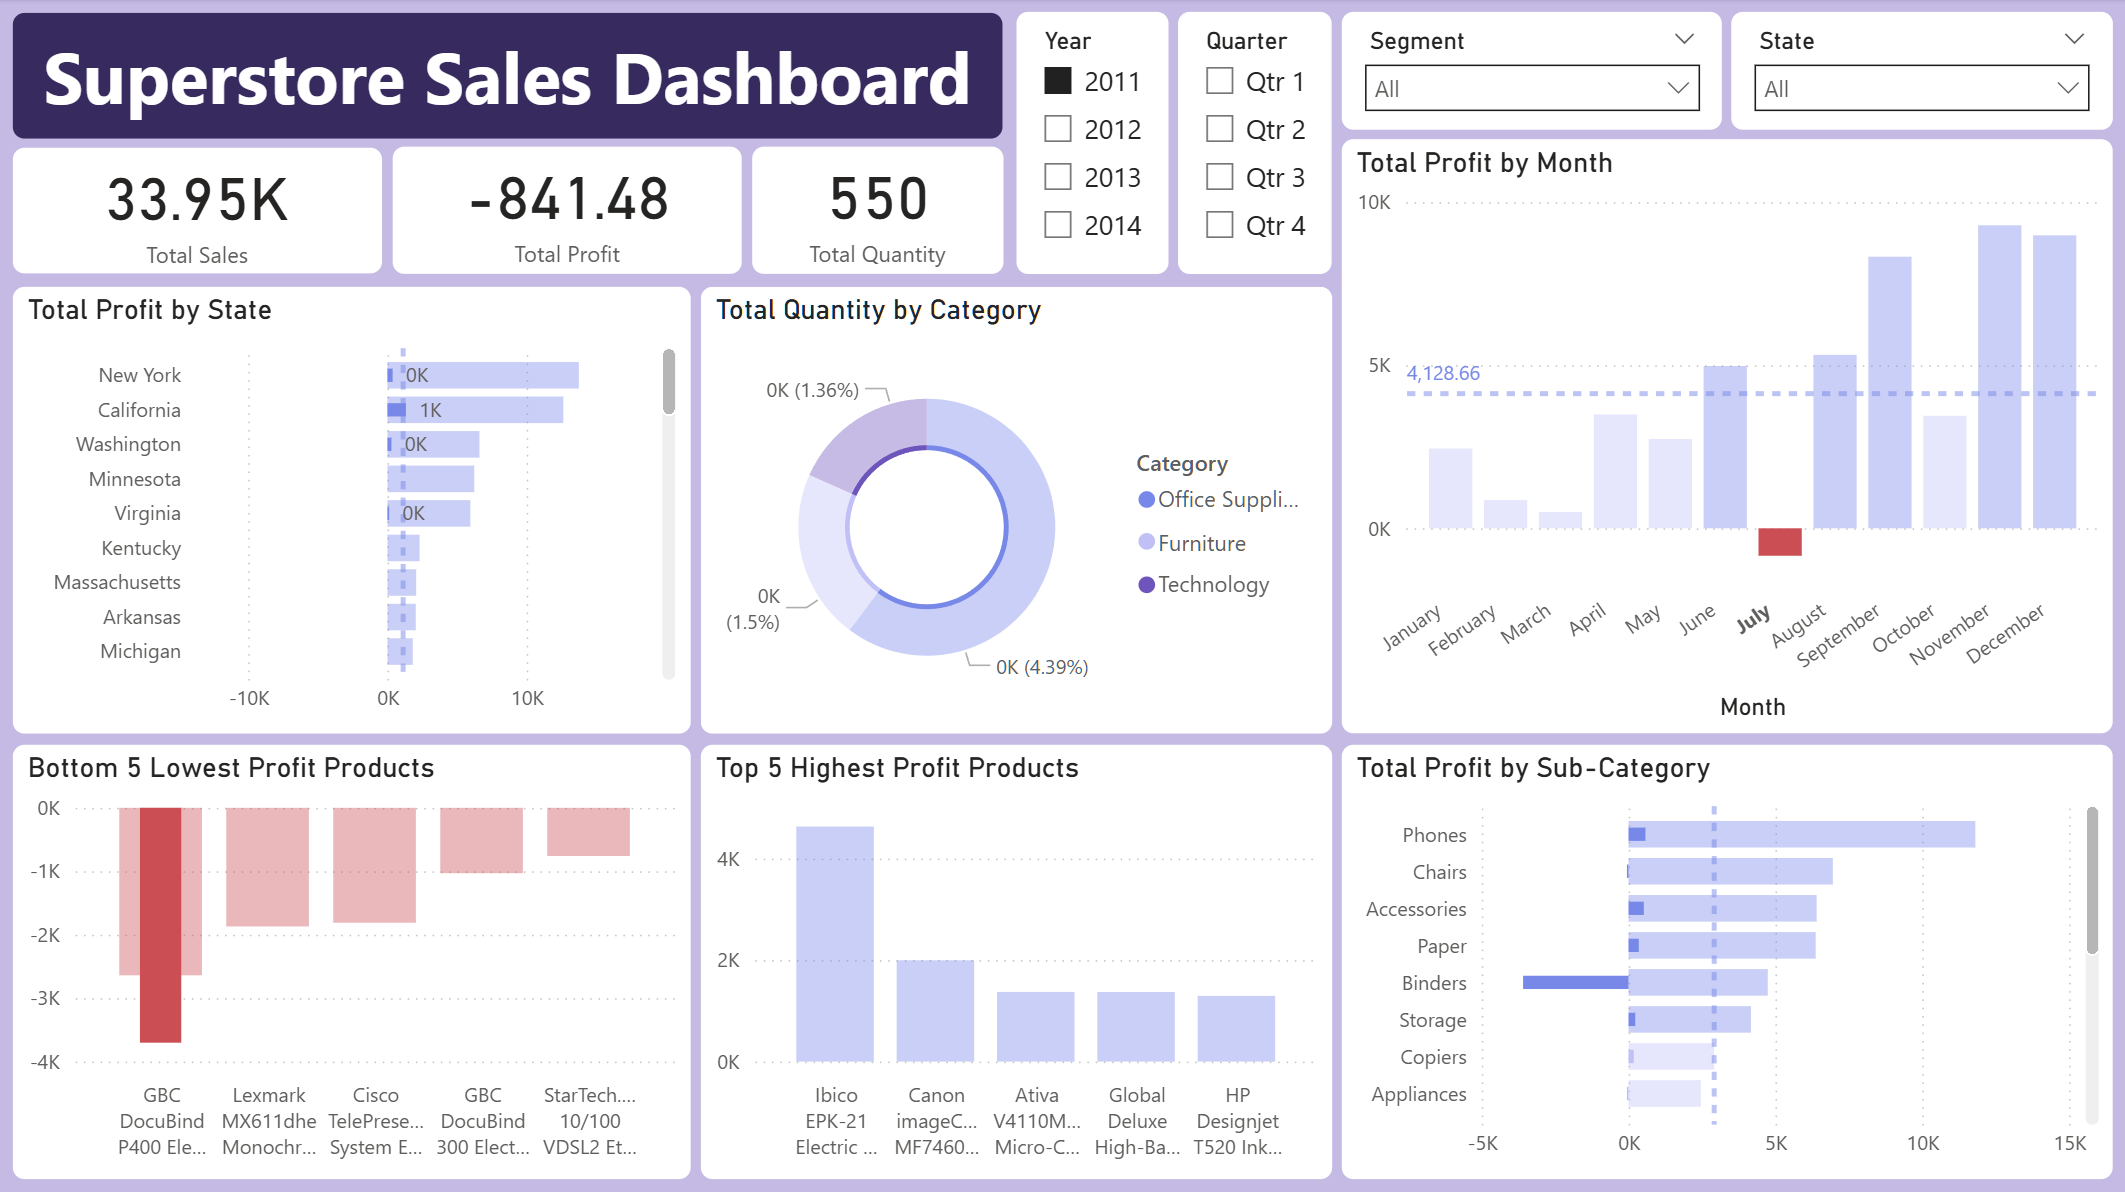

What the dashboard file says about the page in this screenshot:
{"tool":"powerbi","page":{"name":"Superstore Sales Dashboard","canvas":[1280,720],"ordinal":0},"visuals":[{"type":"card","fields":{"Values":["Sum(FactSales.Sales)"]},"box":[7.8,89.6,222.3,75.8],"z":0},{"type":"card","fields":{"Values":["Sum(FactSales.Profit)"]},"box":[236.7,88.9,210.5,76.5],"z":1000},{"type":"card","fields":{"Values":["Sum(FactSales.Quantity)"]},"box":[453.1,88.9,151,76.5],"z":2000},{"type":"slicer","fields":{"Values":["FactSales.Order Date.Variation.Date Hierarchy.Year"]},"box":[612.6,7.8,91.5,157.6],"z":3000},{"type":"slicer","fields":{"Values":["FactSales.Order Date.Variation.Date Hierarchy.Quarter"]},"box":[710,7.8,92.8,157.6],"z":4000},{"type":"clusteredBarChart","title":"Total Profit by State","fields":{"Y":["Sum(FactSales.Profit)"],"Category":["DimLocation.State"]},"box":[7.8,173.3,408,269.4],"z":5000},{"type":"donutChart","title":"Total Quantity by Category","fields":{"Y":["Sum(FactSales.Quantity)"],"Category":["DimProduct.Category"]},"box":[422.4,173.3,380.5,269.4],"z":6000},{"type":"clusteredColumnChart","title":"Total Profit by Month","fields":{"Category":["FactSales.Order Date.Variation.Date Hierarchy.Month"],"Y":["Sum(FactSales.Profit)"]},"box":[808.1,84.3,464.9,358.3],"z":7000},{"type":"slicer","fields":{"Values":["FactSales.Segment"]},"box":[808.1,7.8,229.4,70.6],"z":8000},{"type":"textbox","box":[7.8,8.5,596.3,75.8],"z":9000},{"type":"clusteredBarChart","title":"Total Profit by Sub-Category","fields":{"Y":["Sum(FactSales.Profit)"],"Category":["DimProduct.Sub-Category"]},"box":[808.1,449.2,464.9,261.5],"z":10000},{"type":"slicer","fields":{"Values":["DimLocation.State"]},"box":[1043.3,7.8,229.7,70.6],"z":11000},{"type":"clusteredColumnChart","title":"Top 5 Highest Profit Products","fields":{"Y":["Sum(FactSales.Profit)"],"Category":["DimProduct.Product Name"]},"box":[422.4,449.2,380.5,261.5],"z":12000},{"type":"clusteredColumnChart","title":"Bottom 5 Lowest Profit Products","fields":{"Y":["Sum(FactSales.Profit)"],"Category":["DimProduct.Product Name"]},"box":[7.8,449.2,408,261.5],"z":13000}]}

Visuals, with their boxes in screenshot pixels (x1, y1, x2, y2), scaled from the page's 1280x720 canvas onto the 2125x1192 screenshot:
card - Sum(FactSales.Sales): [x1=13, y1=148, x2=382, y2=274]
card - Sum(FactSales.Profit): [x1=393, y1=147, x2=742, y2=274]
card - Sum(FactSales.Quantity): [x1=752, y1=147, x2=1003, y2=274]
slicer - FactSales.Order Date.Variation.Date Hierarchy.Year: [x1=1017, y1=13, x2=1169, y2=274]
slicer - FactSales.Order Date.Variation.Date Hierarchy.Quarter: [x1=1179, y1=13, x2=1333, y2=274]
"Total Profit by State" clusteredBarChart: [x1=13, y1=287, x2=690, y2=733]
"Total Quantity by Category" donutChart: [x1=701, y1=287, x2=1333, y2=733]
"Total Profit by Month" clusteredColumnChart: [x1=1342, y1=140, x2=2113, y2=733]
slicer - FactSales.Segment: [x1=1342, y1=13, x2=1722, y2=130]
textbox: [x1=13, y1=14, x2=1003, y2=140]
"Total Profit by Sub-Category" clusteredBarChart: [x1=1342, y1=744, x2=2113, y2=1177]
slicer - DimLocation.State: [x1=1732, y1=13, x2=2113, y2=130]
"Top 5 Highest Profit Products" clusteredColumnChart: [x1=701, y1=744, x2=1333, y2=1177]
"Bottom 5 Lowest Profit Products" clusteredColumnChart: [x1=13, y1=744, x2=690, y2=1177]
